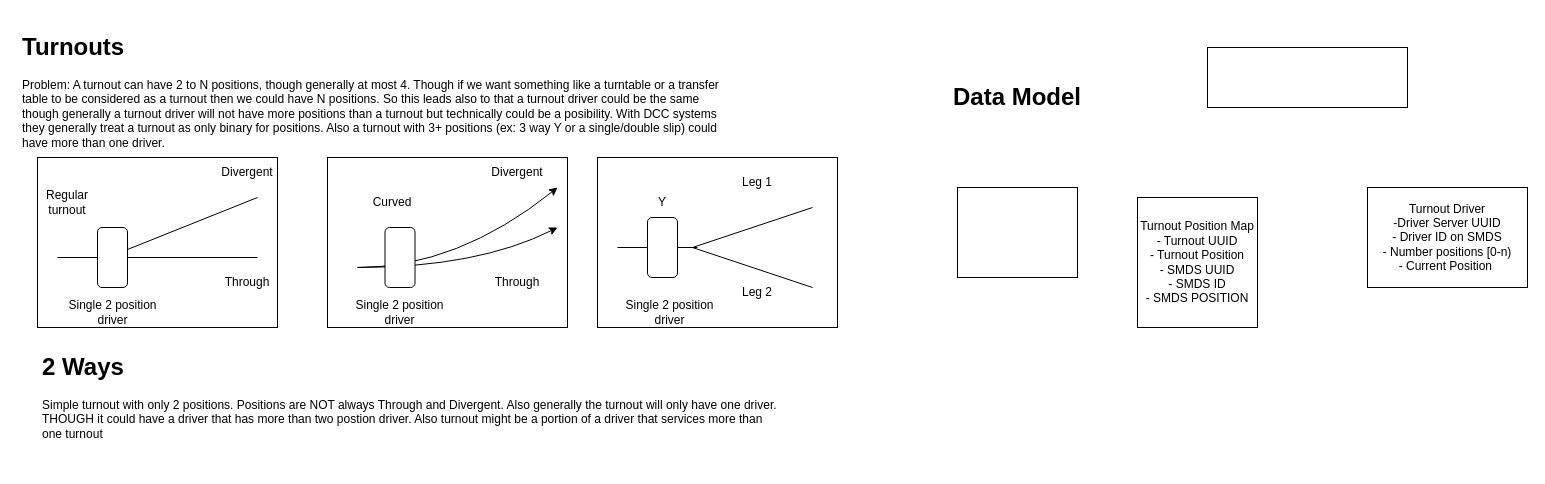
This 1545x484 diagram has some shape labels left out. The shapes that lost their labels are listed below. From the top down, each one's centre as x and y in pixels, then its label:
At [1307,77]: "Type Turnout Driver ID: <SMDS UUID>.<ID>_<POSITION>".
At [1017,232]: "Turnout -UUID -Type - Name:string - Number Positions - Current Position".
